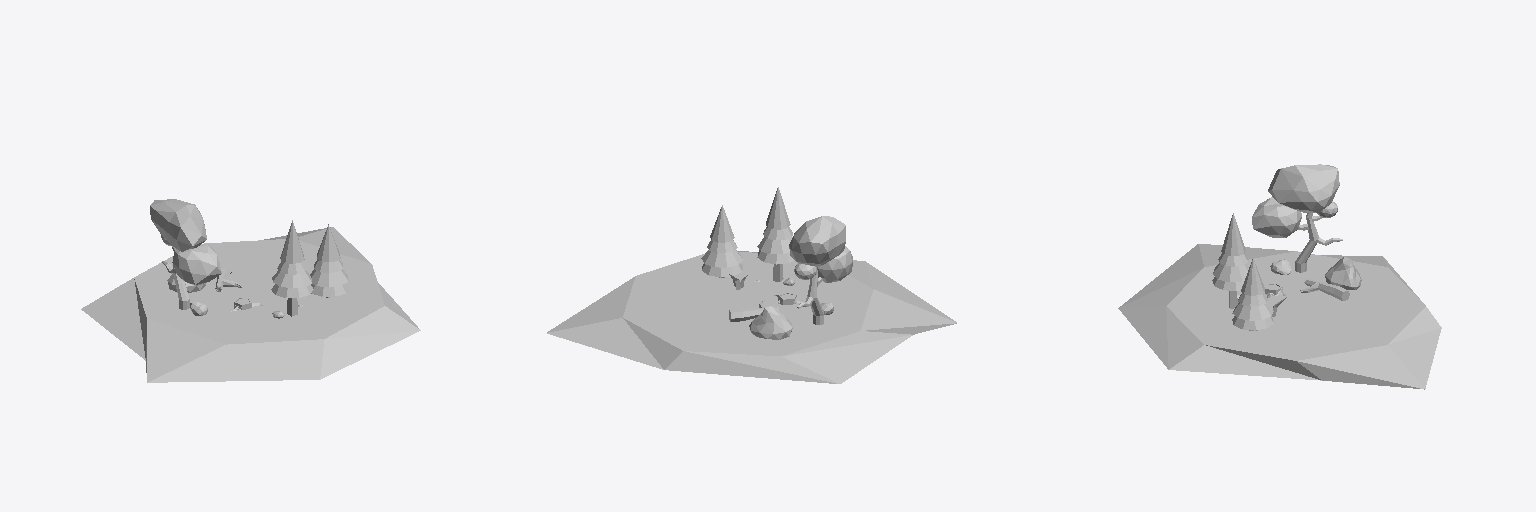
File: Arboles-Muebles2.obj
3 views of the same model, side by side, from view 1: azimuth 30°, elevation 25°; view 2: azimuth 150°, elevation 25°; view 3: azimuth 270°, elevation 25° (orthographic).
Parts seen in each view (by area): view 1: Cylinder.003_Cylinder.002, Cylinder.004_Cylinder.028, Plane.003_Plane.005, Plane.004_Plane.006; view 2: Cylinder.003_Cylinder.002, Cylinder.004_Cylinder.028, Plane.003_Plane.005, Plane.004_Plane.006, Icosphere.001; view 3: Cylinder.003_Cylinder.002, Cylinder.004_Cylinder.028, Plane.003_Plane.005, Plane.004_Plane.006, Icosphere.001.
Boxes of the visible parts, x1=… form: Cylinder.003_Cylinder.002: x1=81, y1=227, x2=420, y2=382; Cylinder.004_Cylinder.028: x1=150, y1=199, x2=221, y2=309; Plane.003_Plane.005: x1=271, y1=220, x2=313, y2=316; Plane.004_Plane.006: x1=310, y1=224, x2=349, y2=297; Cylinder.003_Cylinder.002: x1=547, y1=251, x2=956, y2=383; Cylinder.004_Cylinder.028: x1=789, y1=216, x2=852, y2=324; Plane.003_Plane.005: x1=757, y1=187, x2=794, y2=281; Plane.004_Plane.006: x1=701, y1=205, x2=742, y2=277; Icosphere.001: x1=749, y1=306, x2=792, y2=339; Cylinder.003_Cylinder.002: x1=1118, y1=244, x2=1441, y2=389; Cylinder.004_Cylinder.028: x1=1252, y1=164, x2=1342, y2=272; Plane.003_Plane.005: x1=1212, y1=213, x2=1249, y2=308; Plane.004_Plane.006: x1=1232, y1=259, x2=1273, y2=330; Icosphere.001: x1=1325, y1=257, x2=1361, y2=289.
Size of the model in its own units: 15.12 by 5.84 by 14.15.